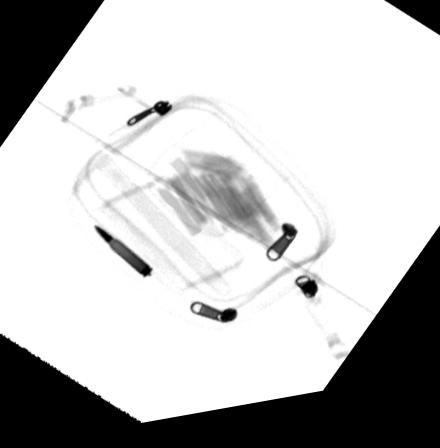Bullet: (90, 226, 154, 284)
